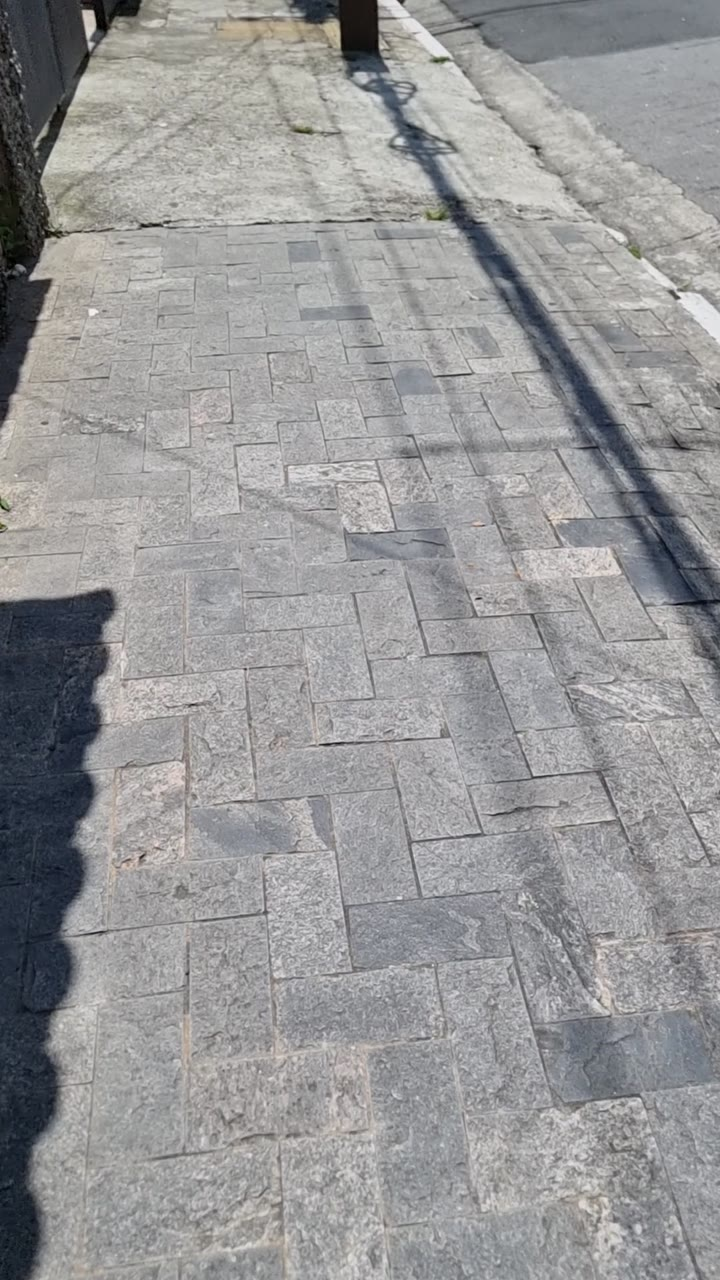desnivel: (36, 192, 720, 269)
